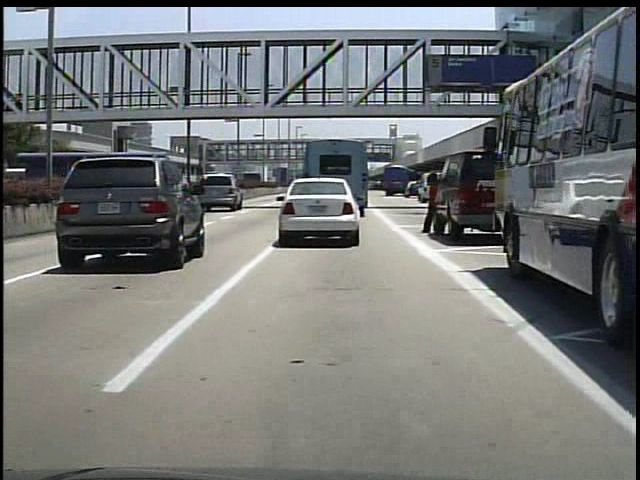person: (423, 174, 446, 237)
